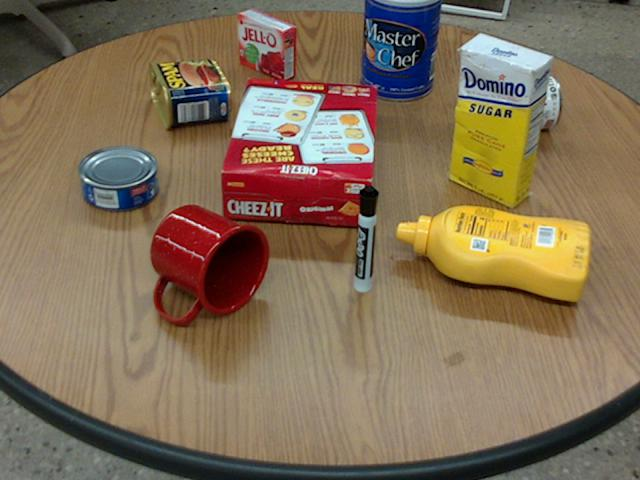cracker_box: (219, 80, 375, 227)
gelatin_box: (237, 8, 295, 79)
large_marker: (353, 185, 377, 292)
master_chef_can: (360, 0, 441, 99)
mug: (147, 205, 267, 321)
mustard_bottle: (396, 205, 588, 300)
potted_meat_can: (148, 59, 229, 127)
sugar_box: (450, 33, 550, 207)
tomato_soup_can: (466, 75, 560, 131)
tuna_fish_can: (77, 145, 157, 210)
